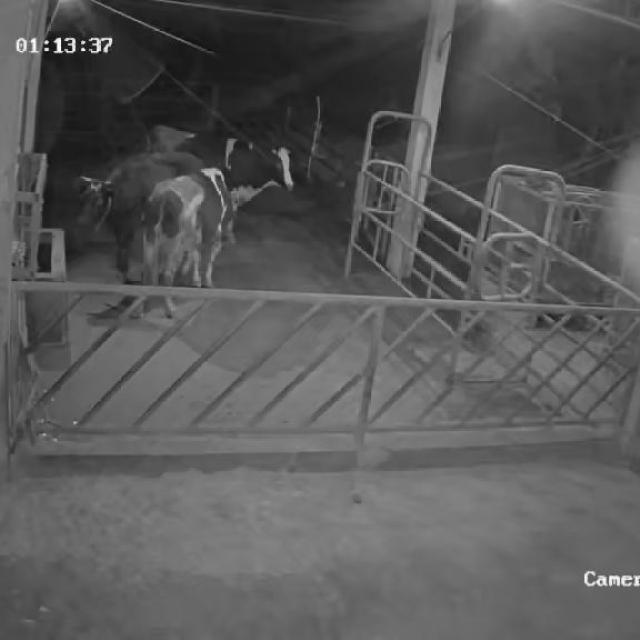standing: (142, 116, 302, 246), (62, 146, 194, 288), (140, 166, 252, 316)
